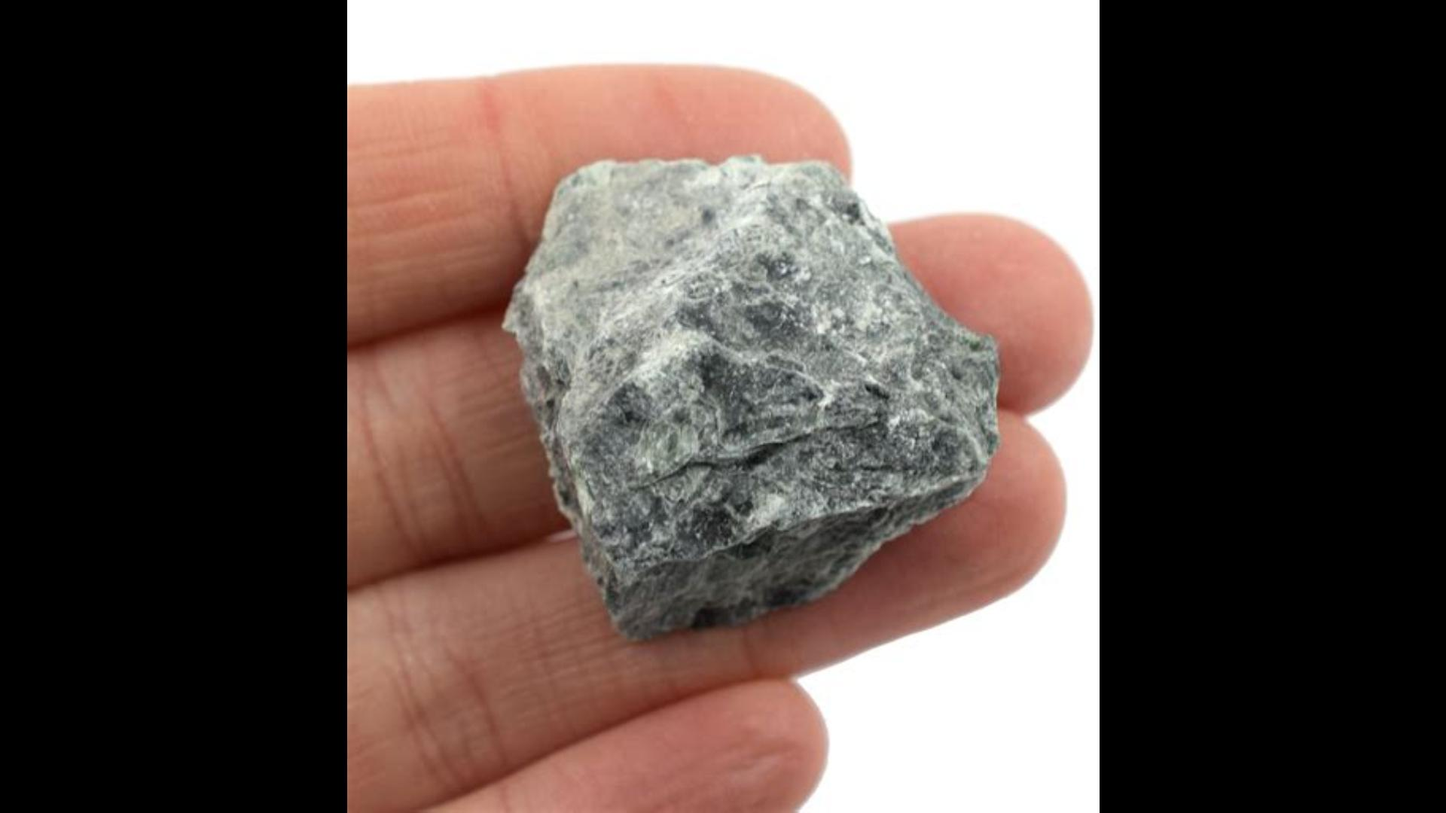rock: (505, 162, 996, 637)
